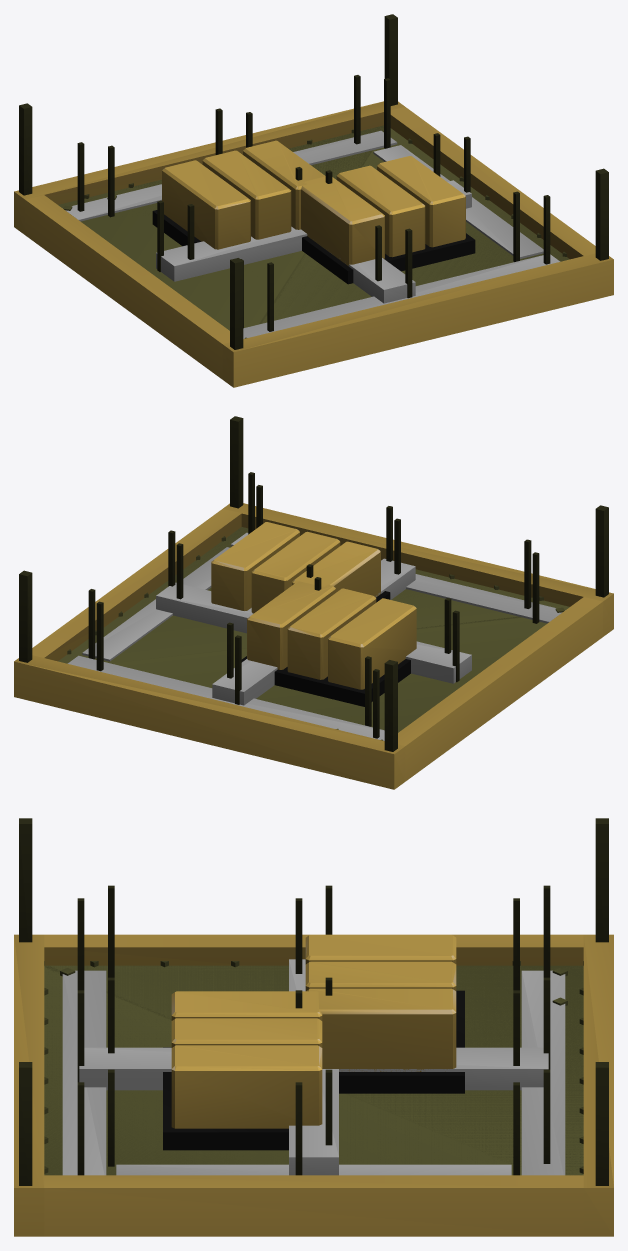
Rendered from meridian_decoy_emplacement_foundation.glb.
3 views of the same model, one above another, from view 1: azimuth 30°, elevation 25°; view 2: azimuth 150°, elevation 25°; view 3: azimuth 270°, elevation 25° (orthographic). The views are drawn at different scales.
Visible parts, largest first — view 1: body (×3); view 2: body (×2); view 3: body (×3).
Part boxes in pixels (left/top/right/bottom): body (×3): left=14, top=14, right=613, bottom=387; body (×2): left=14, top=416, right=613, bottom=789; body (×3): left=14, top=818, right=613, bottom=1236.
Size of the model in its own units: 3.58 by 1.1 by 3.58.
